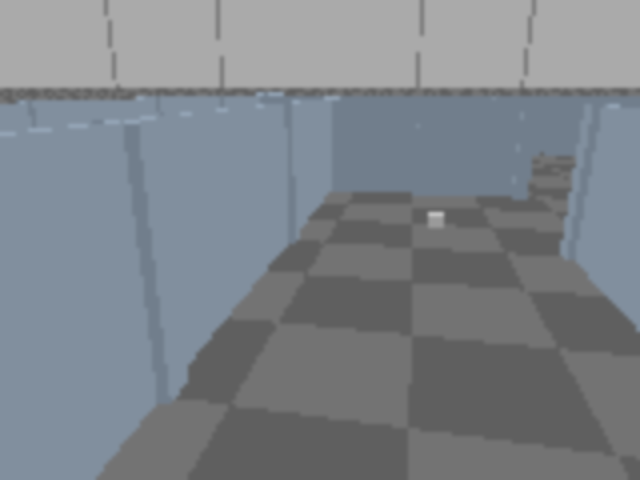puck: (426, 211, 443, 228)
